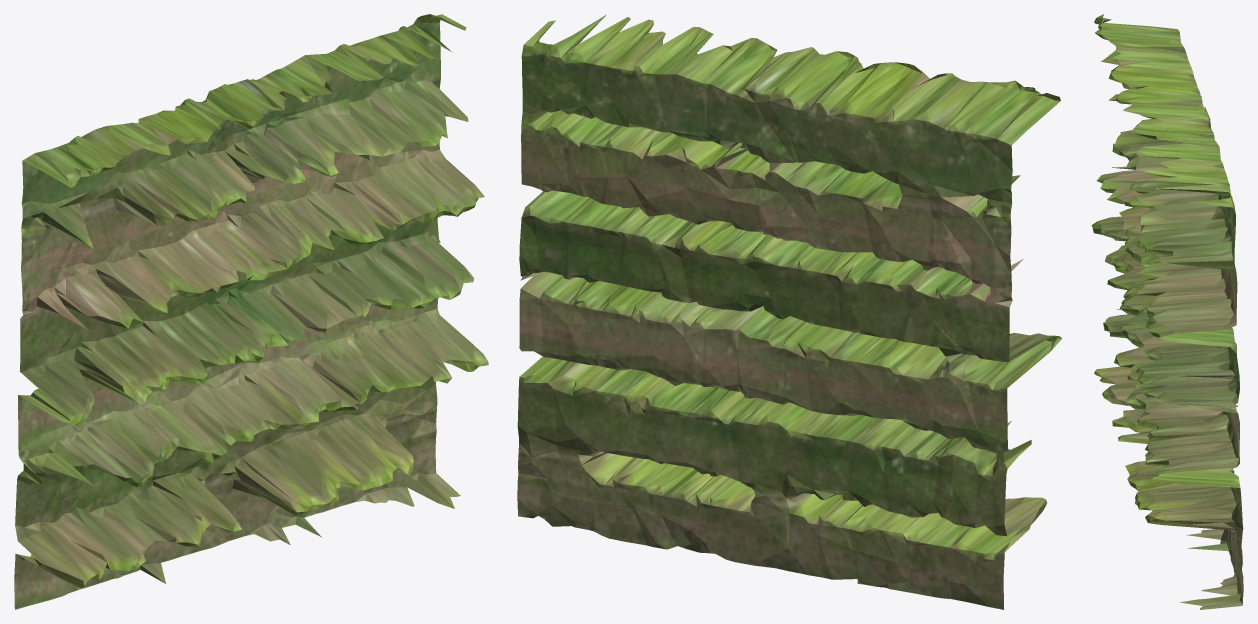
Rendered from map_200_50.obj.
3 renders of one model, left to right at view 1: azimuth 30°, elevation 25°; view 2: azimuth 150°, elevation 25°; view 3: azimuth 270°, elevation 25°, orthographic. The views are drawn at different scales.
Visible parts, largest first — view 1: grp1; view 2: grp1; view 3: grp1.
Part boxes in pixels (x1=…): grp1: x1=14, y1=14, x2=488, y2=609; grp1: x1=517, y1=14, x2=1062, y2=609; grp1: x1=1091, y1=14, x2=1243, y2=609.
Size of the model in its own units: 10 by 10 by 3.4.
1 material, 1 textured.
